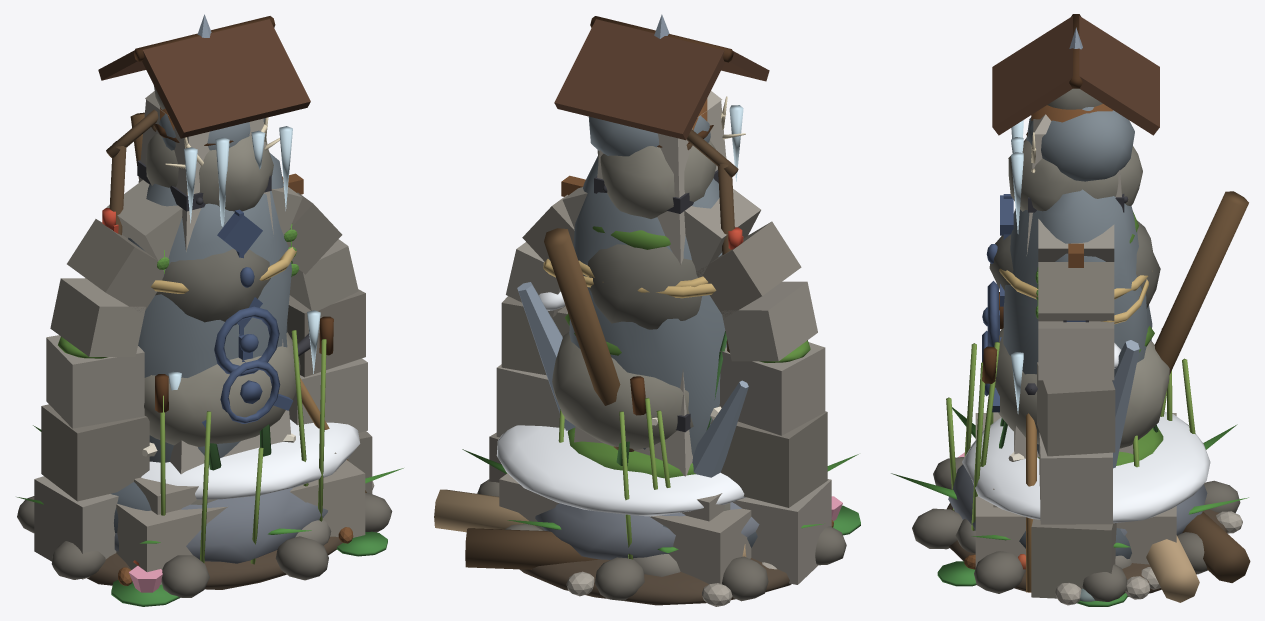
Rendered from waystones.glb.
The picture shows the model from 3 angles, left to right: view 1: azimuth 30°, elevation 25°; view 2: azimuth 150°, elevation 25°; view 3: azimuth 270°, elevation 25°; orthographic projection. The views are drawn at different scales.
Visible parts, largest first — view 1: ws_river, ws_pond, ws_frost, ws_cove, ws_lodge, ws_quarry, ws_marsh, ws_camp; view 2: ws_river, ws_pond, ws_frost, ws_cove, ws_lodge, ws_quarry, ws_marsh, ws_camp; view 3: ws_river, ws_cove, ws_frost, ws_pond, ws_lodge, ws_marsh, ws_camp, ws_quarry.
Boxes of the visible parts, box(x1,y1,x2,y2) form: ws_river: box(34, 180, 372, 579); ws_pond: box(17, 86, 403, 565); ws_frost: box(114, 14, 360, 563); ws_cove: box(111, 113, 296, 533); ws_lodge: box(98, 16, 331, 545); ws_quarry: box(116, 91, 374, 584); ws_marsh: box(87, 112, 387, 606); ws_camp: box(17, 109, 392, 597); ws_river: box(489, 187, 831, 584); ws_pond: box(462, 140, 858, 552); ws_frost: box(496, 14, 759, 559); ws_cove: box(434, 115, 757, 556); ws_lodge: box(554, 16, 769, 576); ws_quarry: box(499, 91, 776, 606); ws_marsh: box(519, 228, 860, 605); ws_camp: box(465, 129, 846, 601); ws_river: box(1031, 219, 1116, 601); ws_cove: box(982, 107, 1199, 602); ws_frost: box(948, 27, 1210, 535); ws_pond: box(891, 88, 1248, 569); ws_lodge: box(955, 14, 1159, 568); ws_marsh: box(937, 191, 1248, 606); ws_camp: box(912, 457, 1250, 601); ws_quarry: box(975, 114, 1242, 605).
Bounding box in the file's own units: 1.75 × 2.59 × 1.62.
